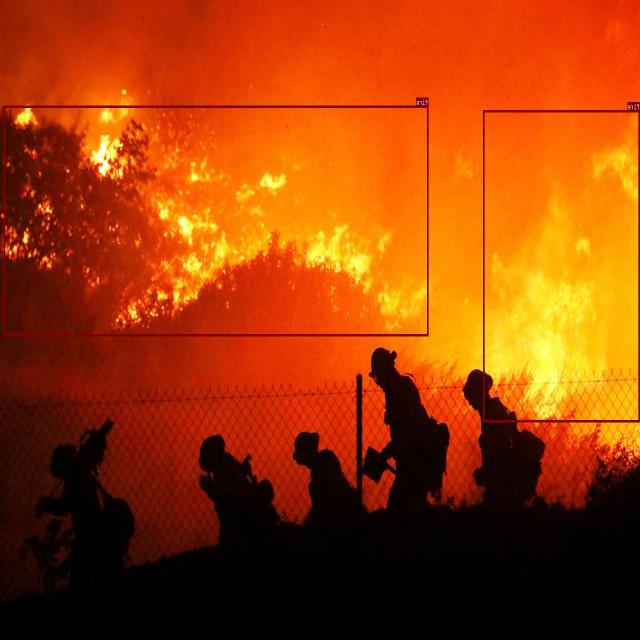fire: (4, 105, 429, 336), (483, 110, 640, 422)
